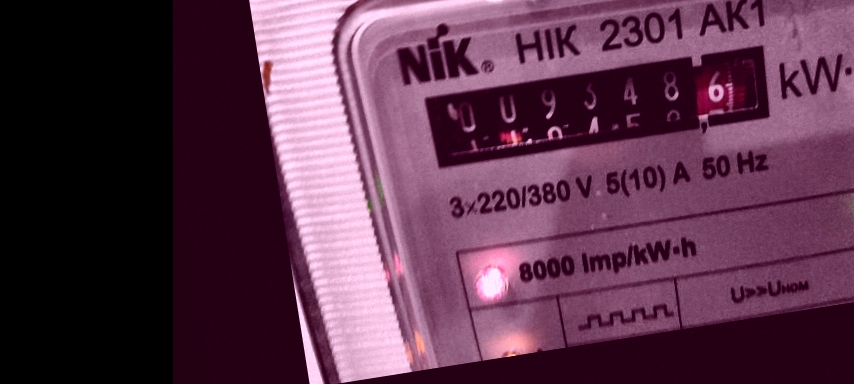0: (494, 89, 521, 128), (454, 97, 479, 135)
3: (575, 77, 602, 112)
4: (615, 71, 641, 110)
6: (702, 67, 729, 104)
8: (658, 66, 683, 103)
9: (537, 83, 560, 120)
screen: (399, 27, 796, 187)
